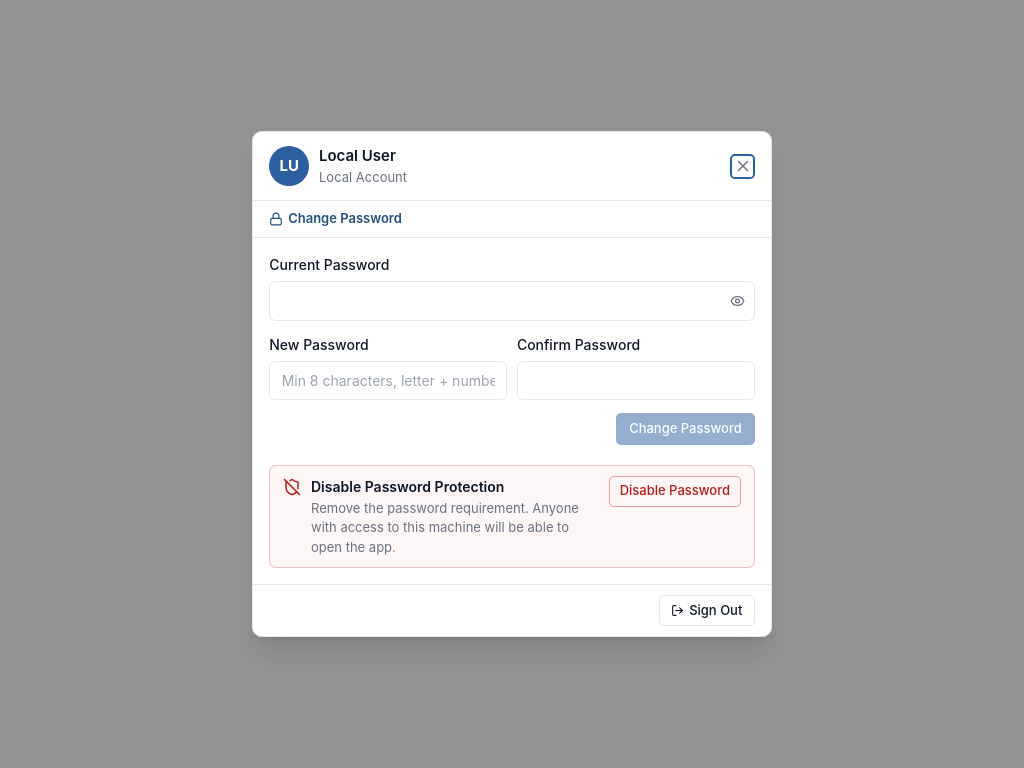
Scenario: Profile dialog reuses the same forms › renders the shared change form and the disable card
Expected: the form with test id "password-change-form" is shown, [269, 254, 755, 445]
What coordinates should you click on to do the following:
click the button with test id "password-disable-open"
I would click on:
 (675, 491)
Its box is [609, 476, 741, 507].
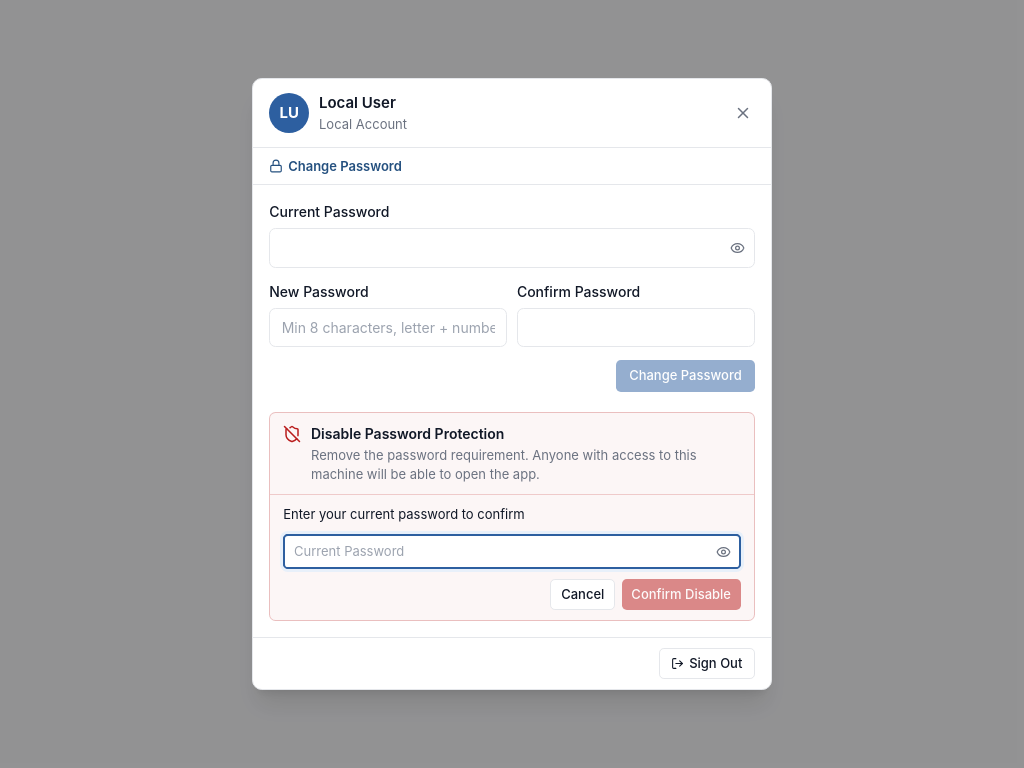
Now the form with test id "password-disable-form" is shown, box [283, 505, 741, 610]
